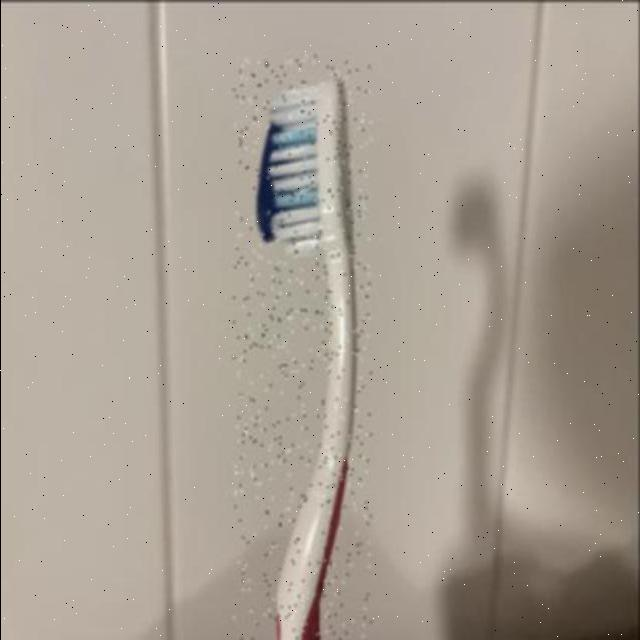toothbrush: (234, 54, 372, 640)
